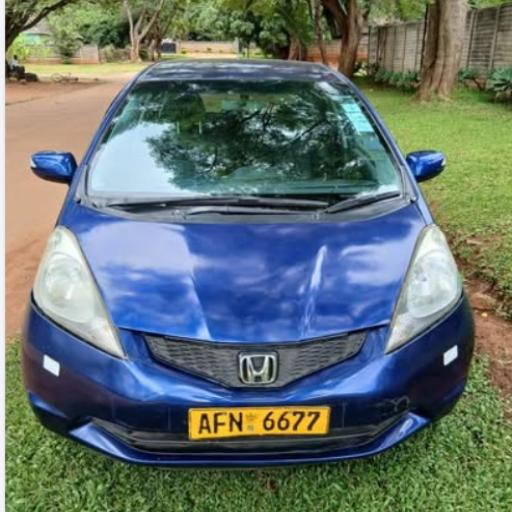number-plates: (188, 406, 330, 435)
